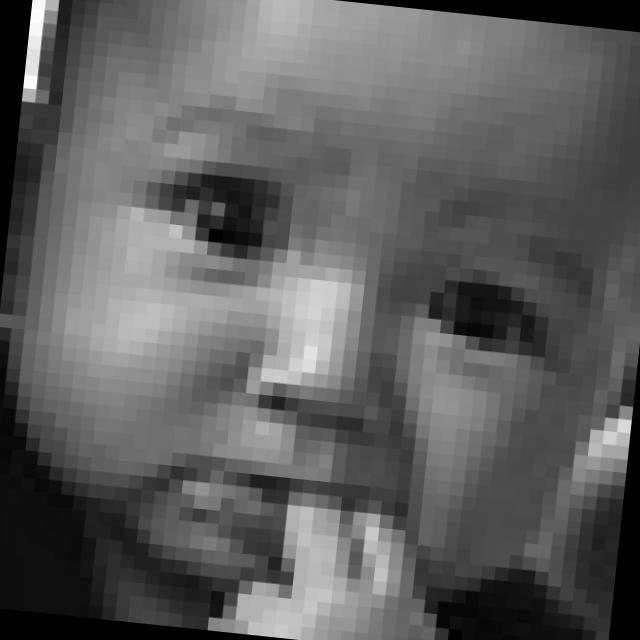fear: (110, 102, 613, 595)
